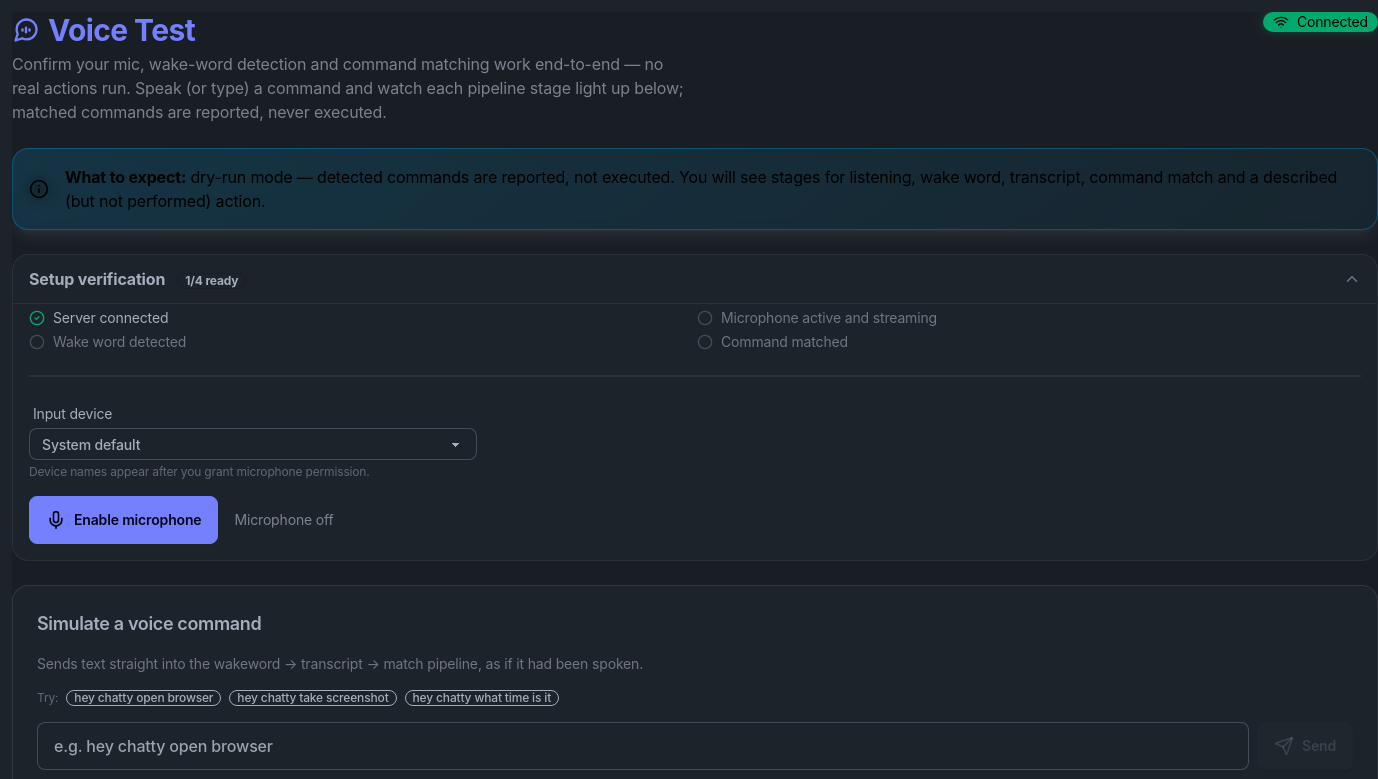
Test: VoiceTestPage › microphone permission flow › reports honest streaming state once the recorder is running
The width and height of the screenshot is (1378, 779).
Click the button with test id "mic-toggle". click: click(124, 520)
box: [29,496,218,544]
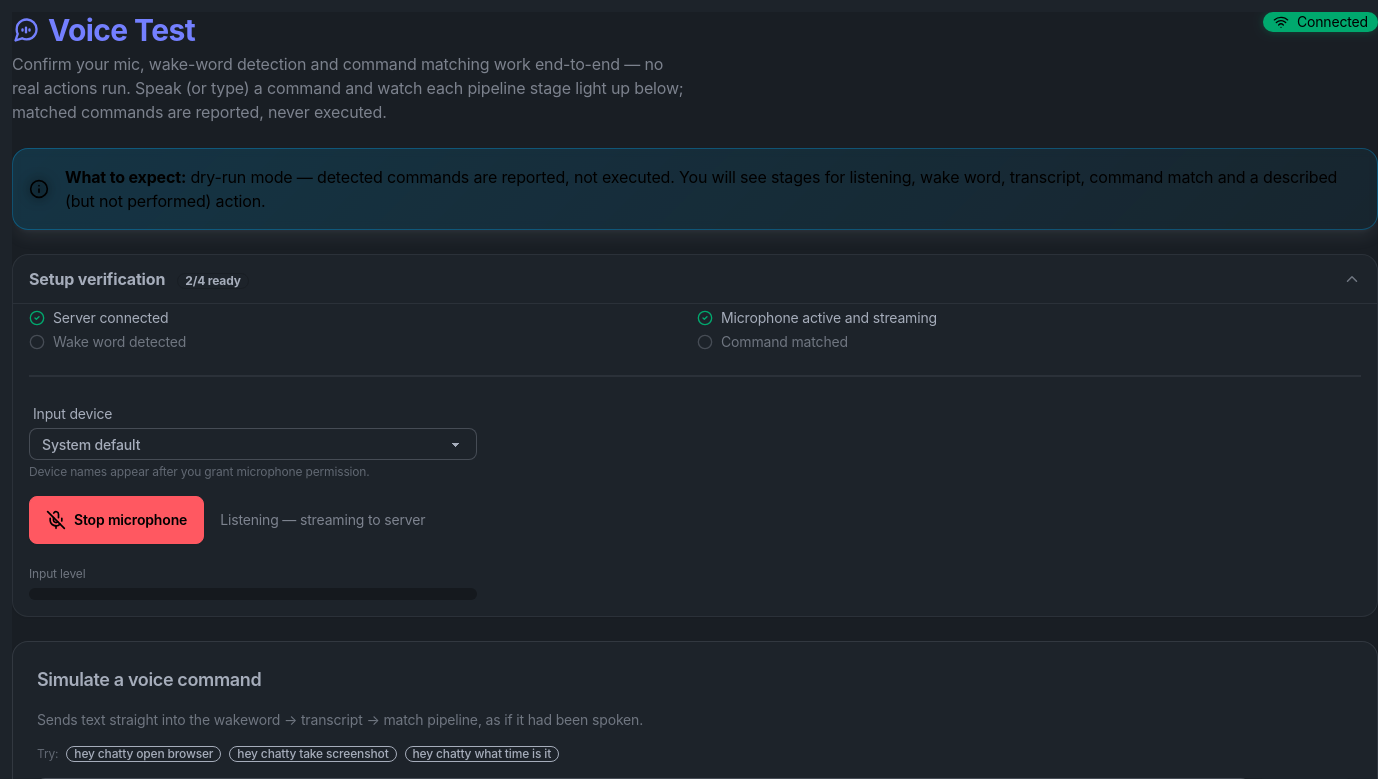
Check: the text with test id "mic-state" reads "Listening — streaming to server", box [220,511,425,528]
